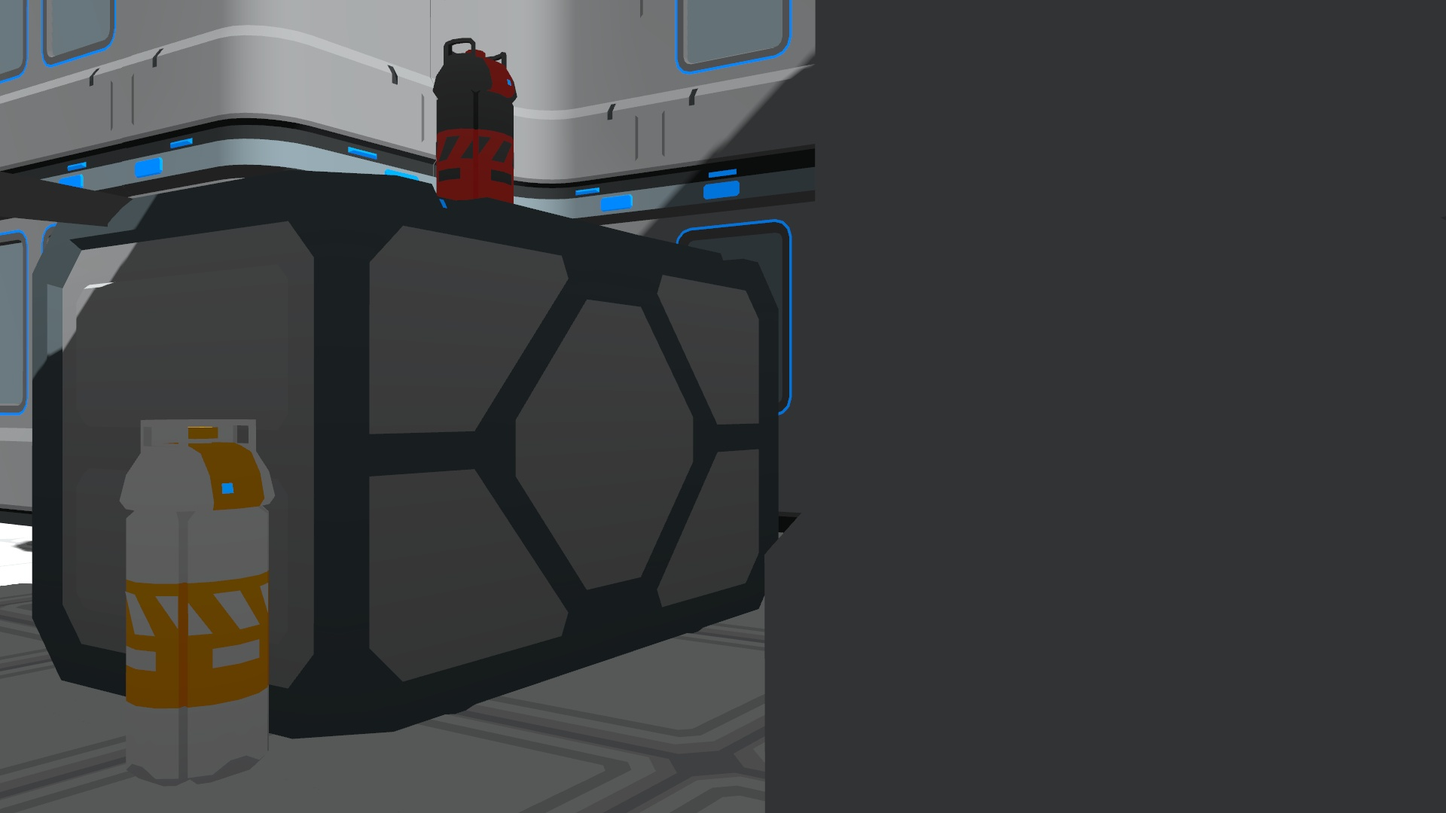red_barrel: (429, 34, 522, 215)
yellow_barrel: (109, 410, 277, 795)
